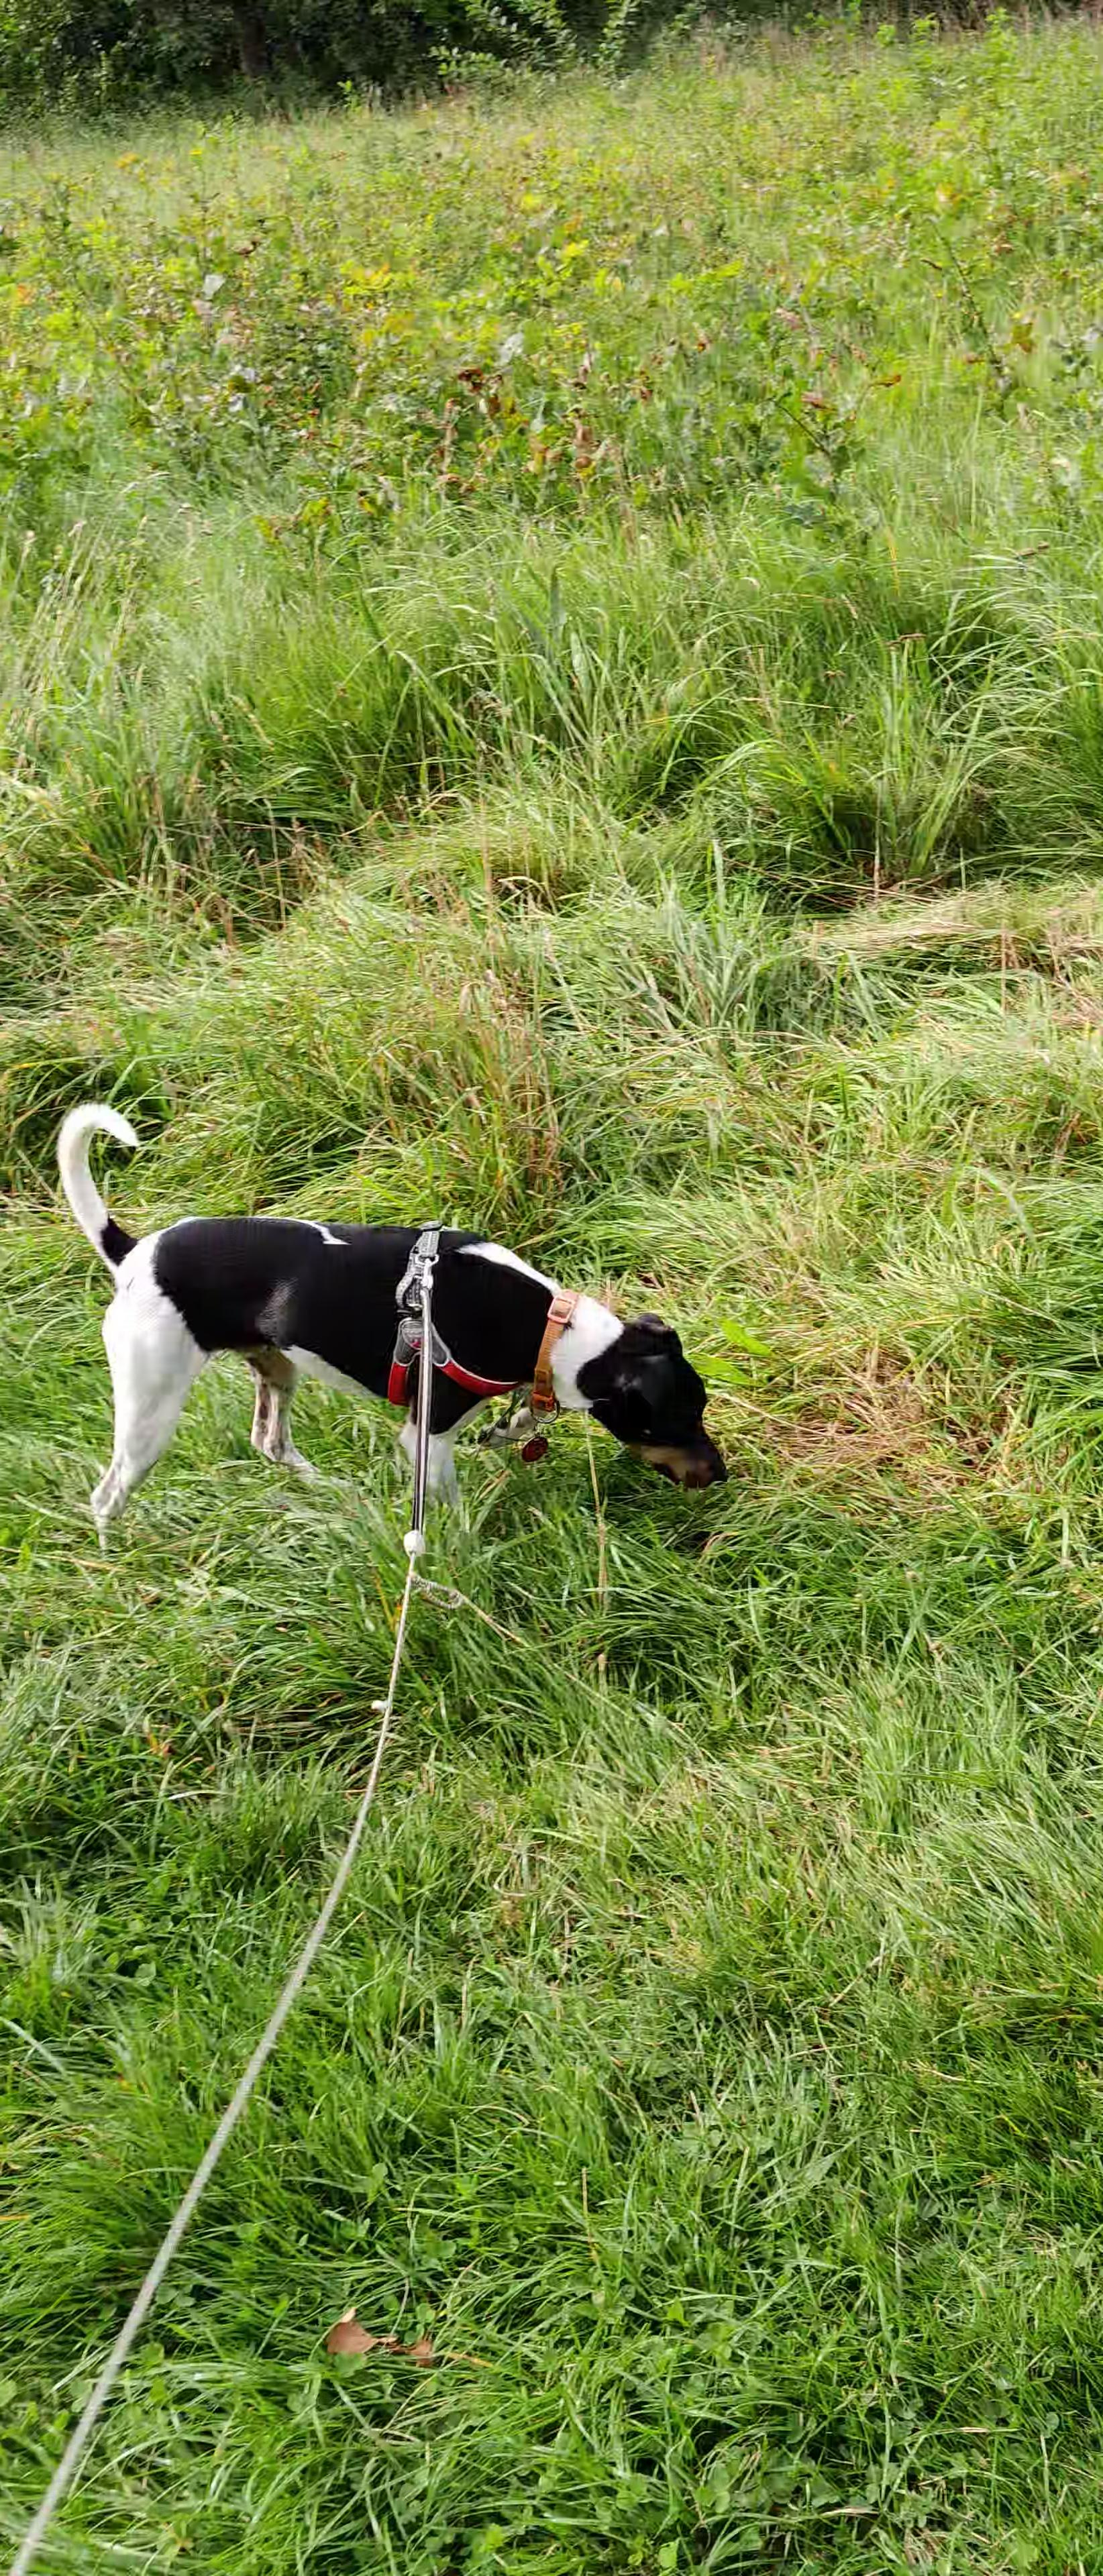Dog: (41, 1092, 736, 1566)
